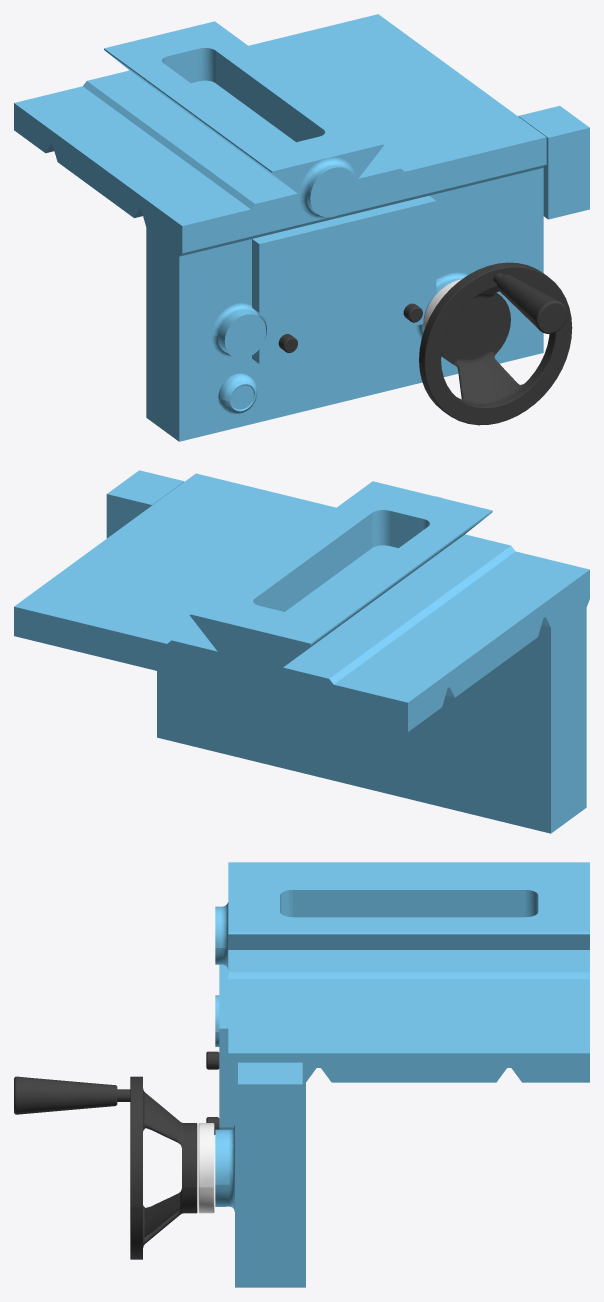
Rendered from CARRIAGE.glb.
3 views of the same model, one above another, from view 1: azimuth 30°, elevation 25°; view 2: azimuth 150°, elevation 25°; view 3: azimuth 270°, elevation 25° (orthographic). The views are drawn at different scales.
Visible parts, largest first — view 1: empty_2, empty_8, empty_5, empty_6; view 2: empty_2, empty_6; view 3: empty_2, empty_5, empty_6, empty_8, empty_7.
Boxes of the visible parts, x1,y1,x2,y2 form: empty_2: (14,14,546,441); empty_8: (252,196,436,363); empty_5: (419,262,572,425); empty_6: (518,106,589,219); empty_2: (14,473,589,833); empty_6: (106,470,184,538); empty_2: (215,862,589,1287); empty_5: (14,1076,197,1259); empty_6: (238,1062,302,1172); empty_8: (219,964,234,1129); empty_7: (198,1123,214,1213).
Size of the model in its own units: 396 by 241 by 446.
